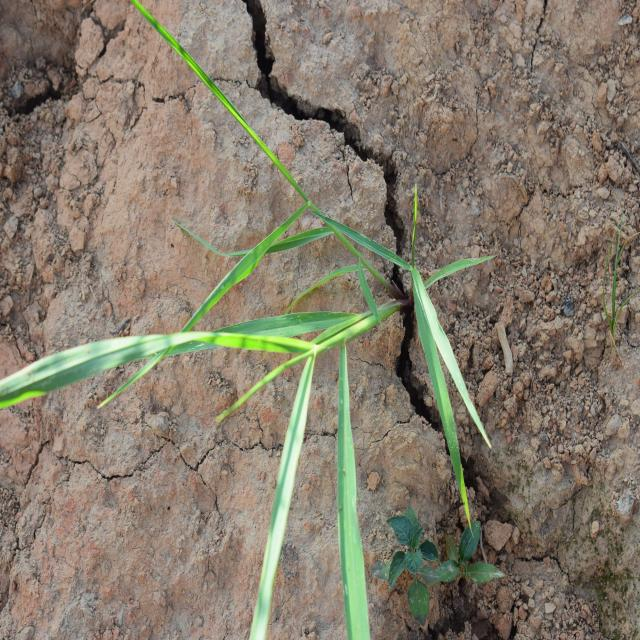green_foxtail: (34, 145, 484, 552)
